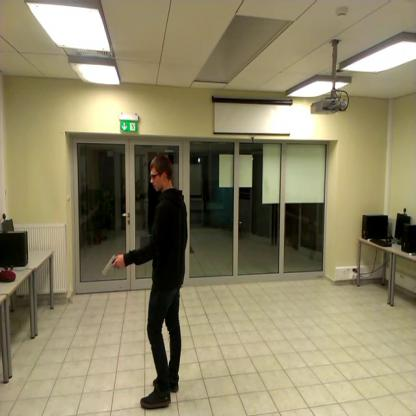Pistol: (100, 247, 122, 283)
